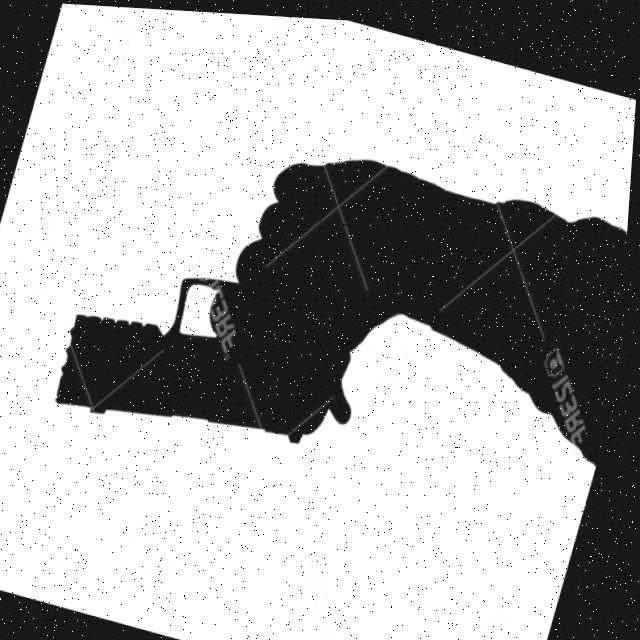pistol: (51, 241, 384, 476)
